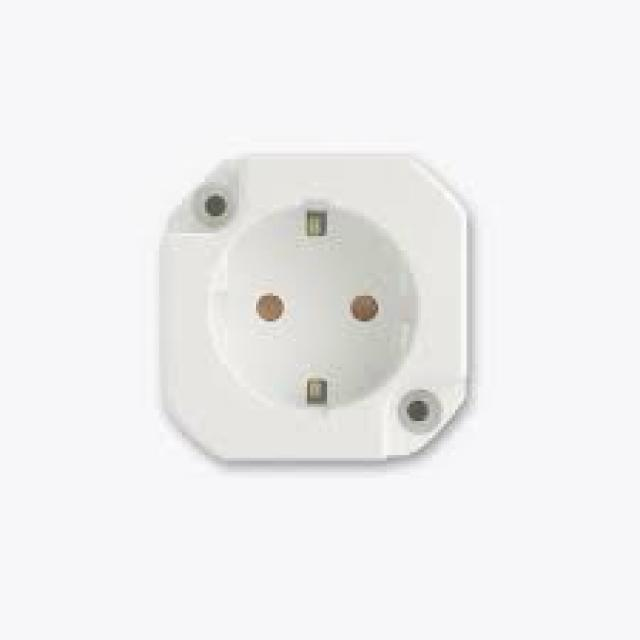typeb: (150, 133, 538, 542)
